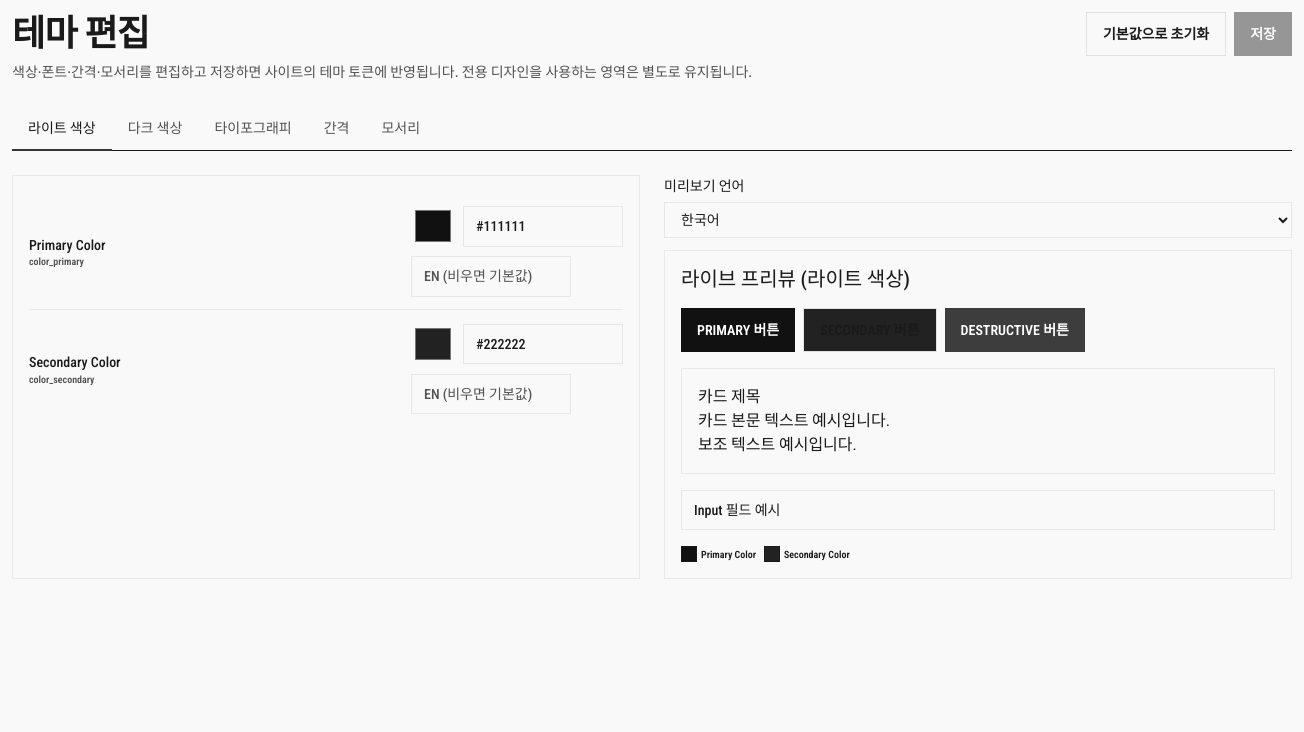
Test: ThemeEditor › keeps the color picker in sync for rgb(255, 0, 16)
Replace the text in the field named "Primary Color 값" with "rgb(255, 0, 16)" at (543, 226), box [463, 206, 623, 247]
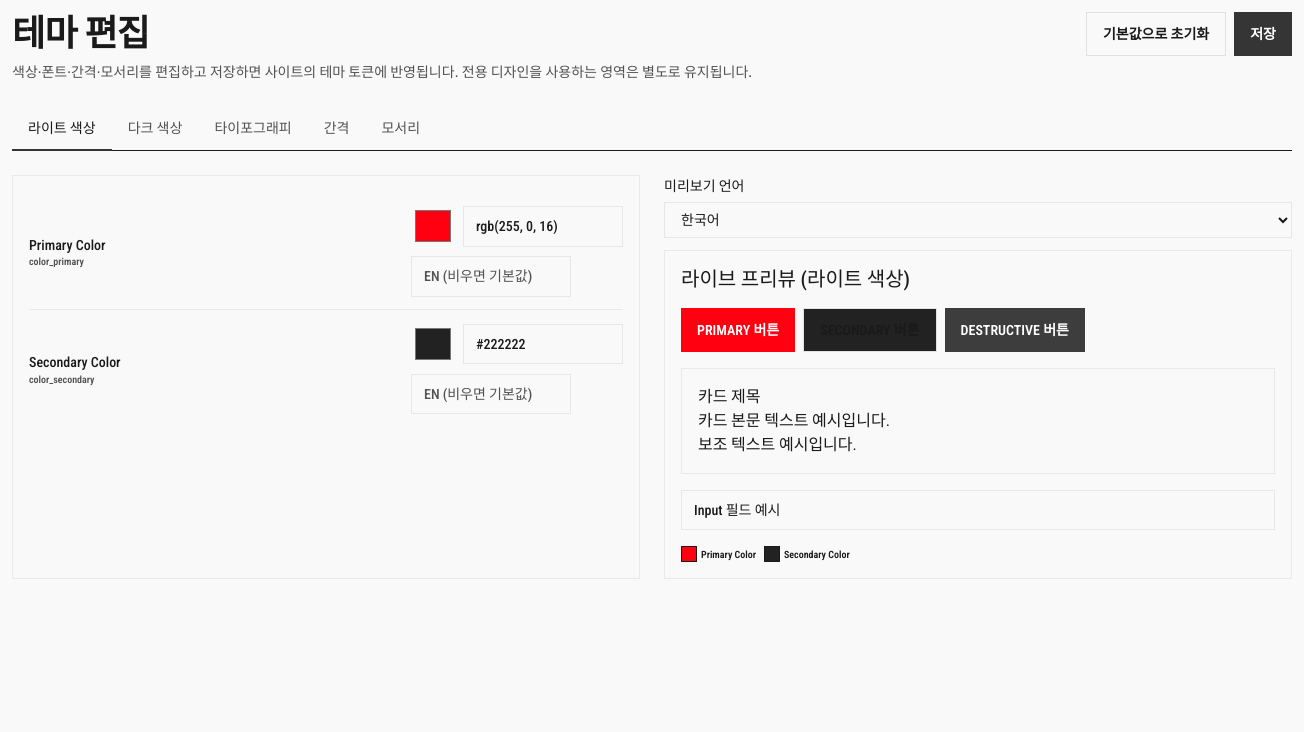
Expected: the colour field named "Primary Color" holds "#ff0010", [411, 204, 455, 248]
